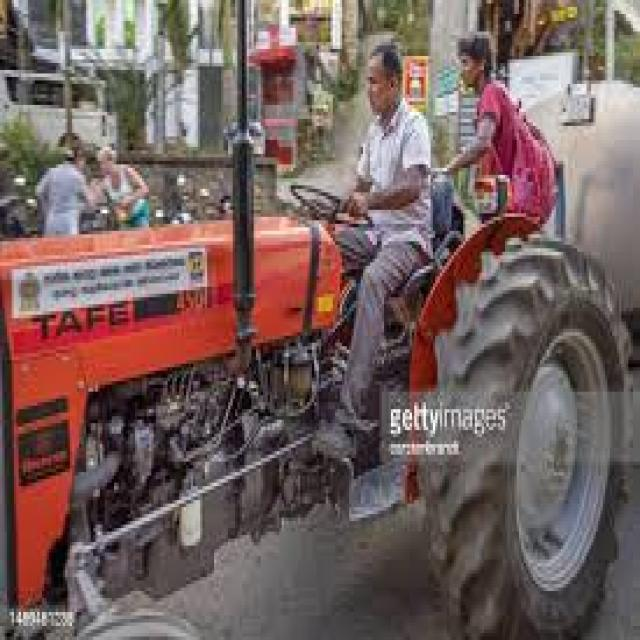person: (337, 45, 428, 416), (447, 31, 554, 224), (91, 147, 147, 227), (37, 161, 86, 234)
tractor: (0, 24, 638, 640)
